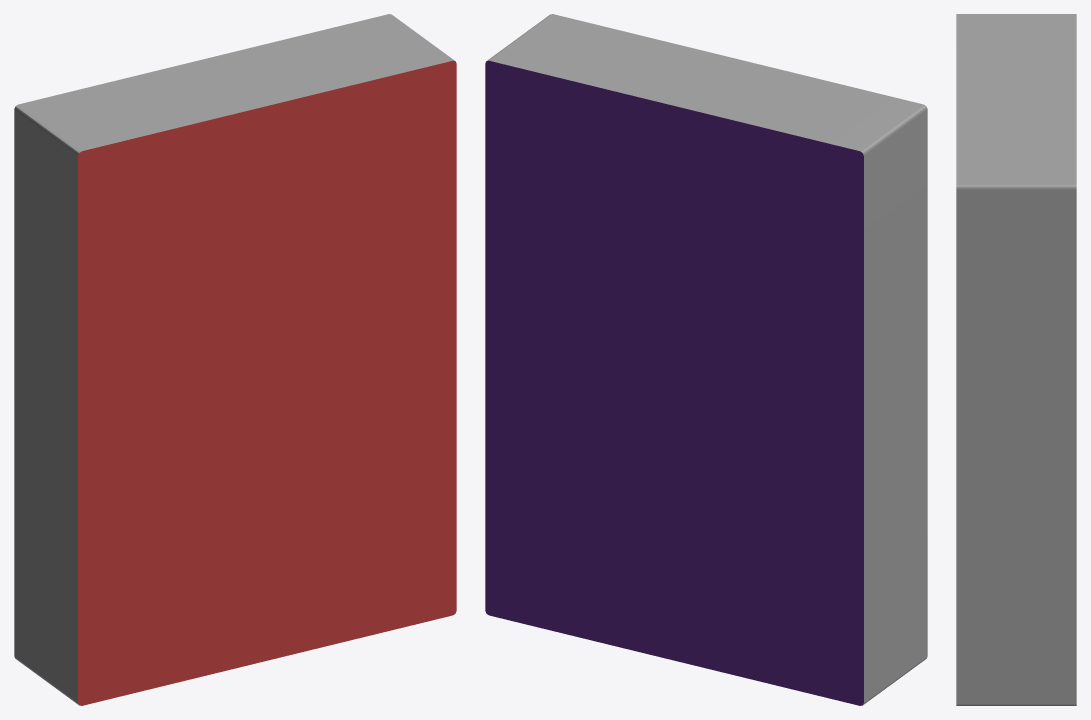
File: mythology deck.fbx
The picture shows the model from 3 angles, left to right: view 1: azimuth 30°, elevation 25°; view 2: azimuth 150°, elevation 25°; view 3: azimuth 270°, elevation 25°; orthographic projection. The views are drawn at different scales.
Visible parts, largest first — view 1: pCube1; view 2: pCube1; view 3: pCube1.
Boxes of the visible parts, x1,y1,x2,y2 form: pCube1: (14,14,456,705); pCube1: (485,14,927,705); pCube1: (956,14,1076,705).
Bounding box in the file's own units: 250 × 350 × 73.
